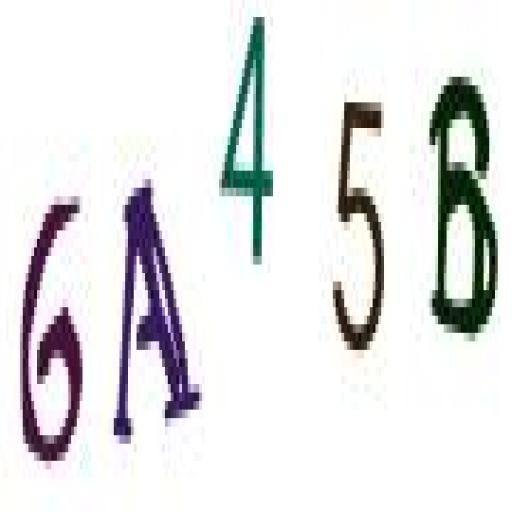4: (214, 7, 285, 279)
5: (327, 81, 393, 368)
6: (12, 170, 96, 484)
A: (108, 168, 207, 462)
B: (423, 64, 504, 381)
